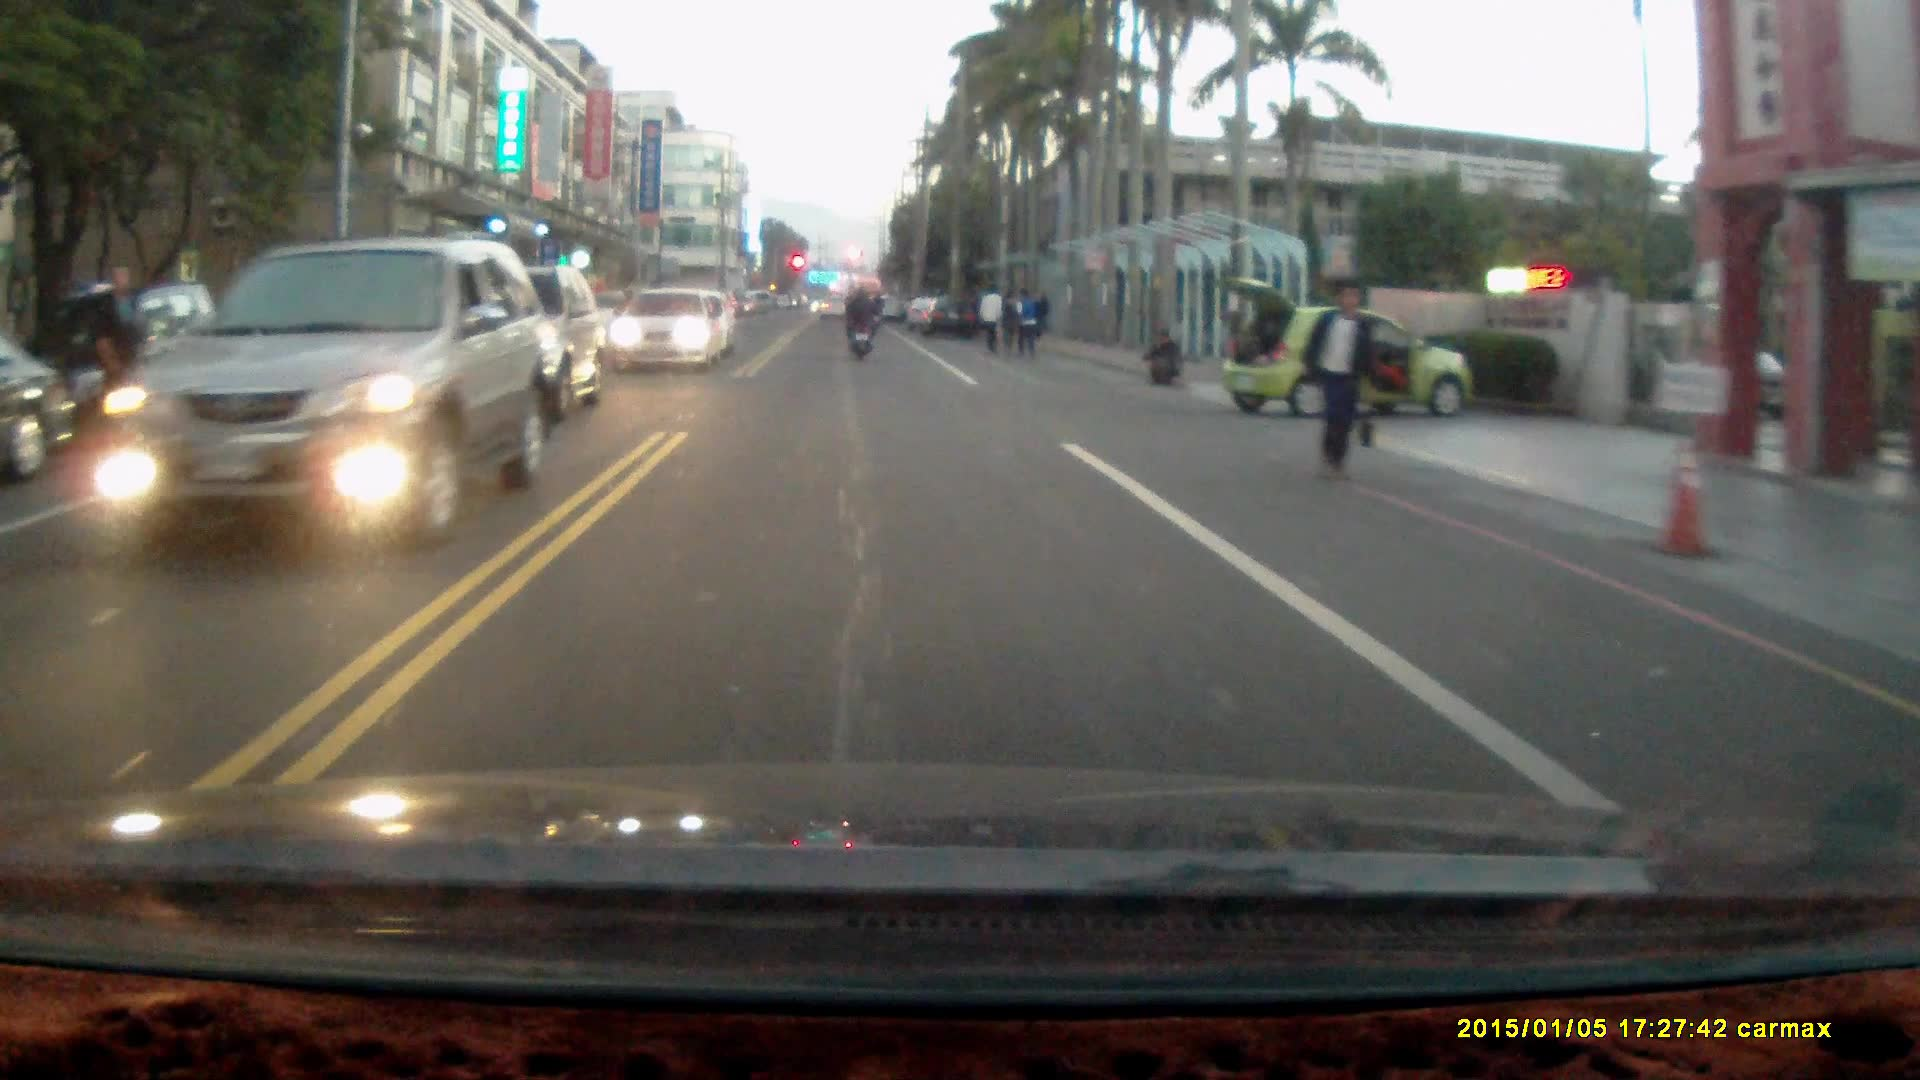pedestrian: (1301, 279, 1381, 491), (1143, 323, 1180, 386), (1016, 281, 1042, 361), (982, 285, 1006, 360), (998, 285, 1021, 354)
rider: (840, 282, 878, 360)
vehicle: (77, 236, 546, 554), (1216, 271, 1482, 418), (396, 261, 612, 425), (614, 283, 726, 369), (926, 295, 982, 340)
